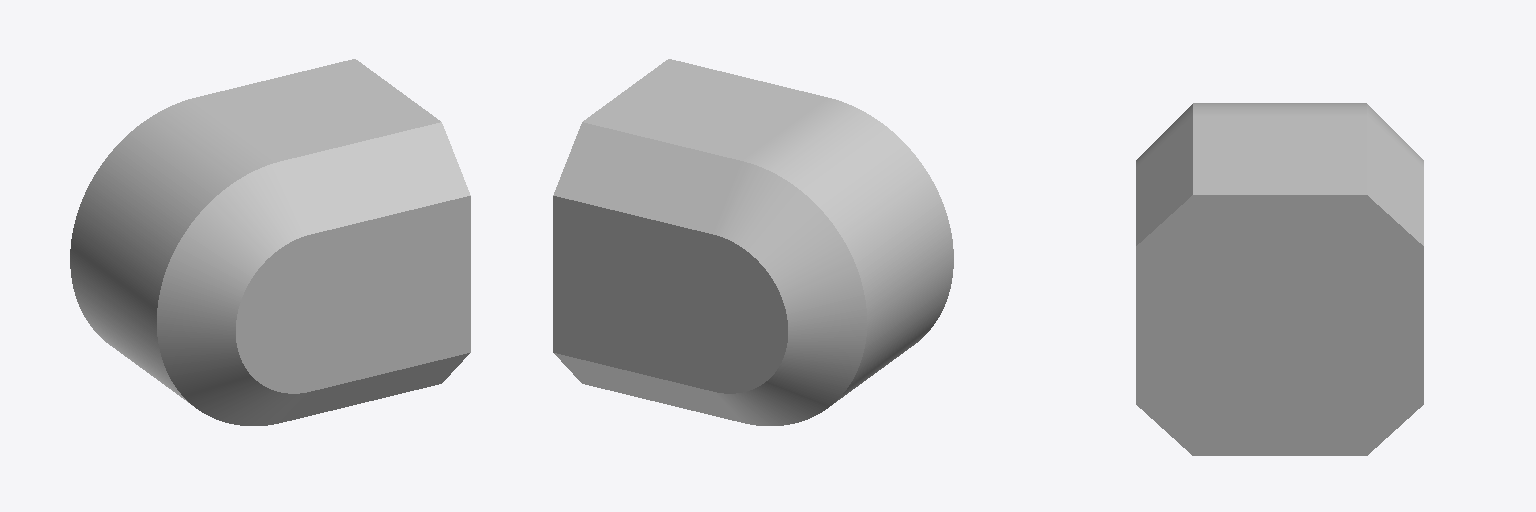
File: Bone5.obj
3 renders of one model, left to right at view 1: azimuth 30°, elevation 25°; view 2: azimuth 150°, elevation 25°; view 3: azimuth 270°, elevation 25°, orthographic.
Parts seen in each view (by area): view 1: Bone5; view 2: Bone5; view 3: Bone5.
Boxes of the visible parts, box(x1,y1,x2,y2) form: Bone5: box(70, 59, 470, 425); Bone5: box(553, 59, 953, 425); Bone5: box(1136, 103, 1423, 455).
Size of the model in its own units: 142 by 125 by 125.